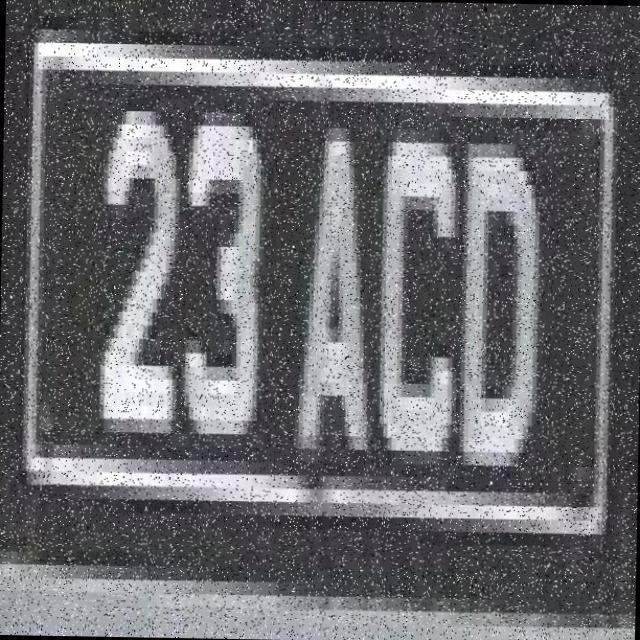License Plate: (0, 6, 620, 620)
